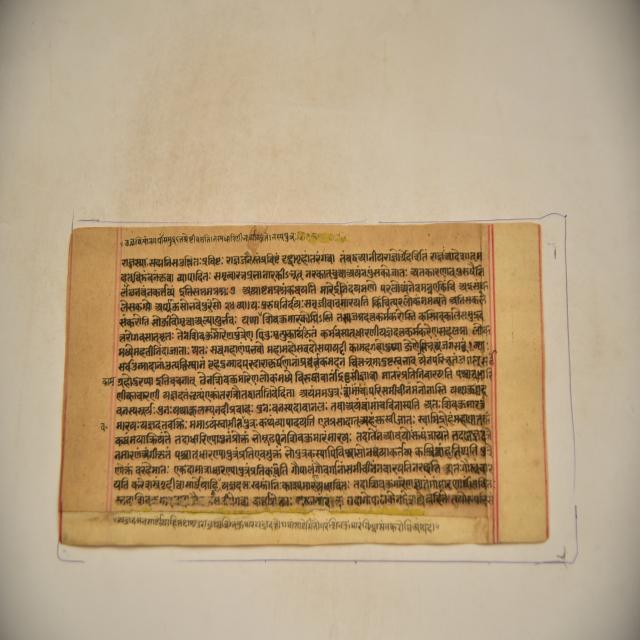text_paragraph: (57, 223, 546, 542)
